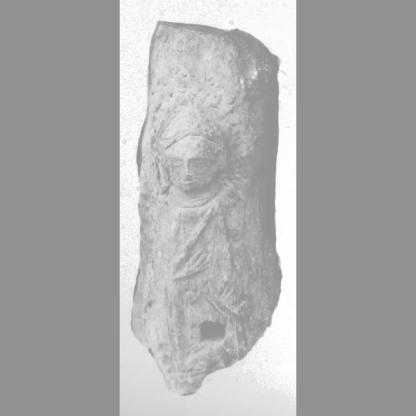buddha-standing: (131, 22, 281, 395)
